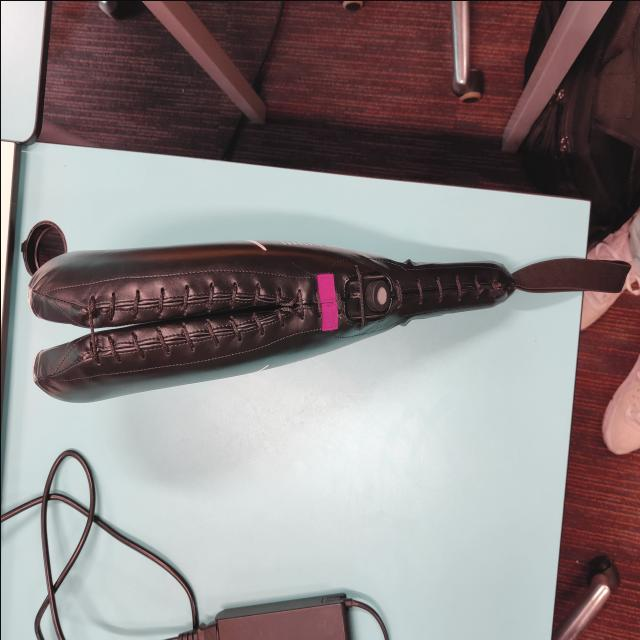paddle: (24, 238, 514, 408)
